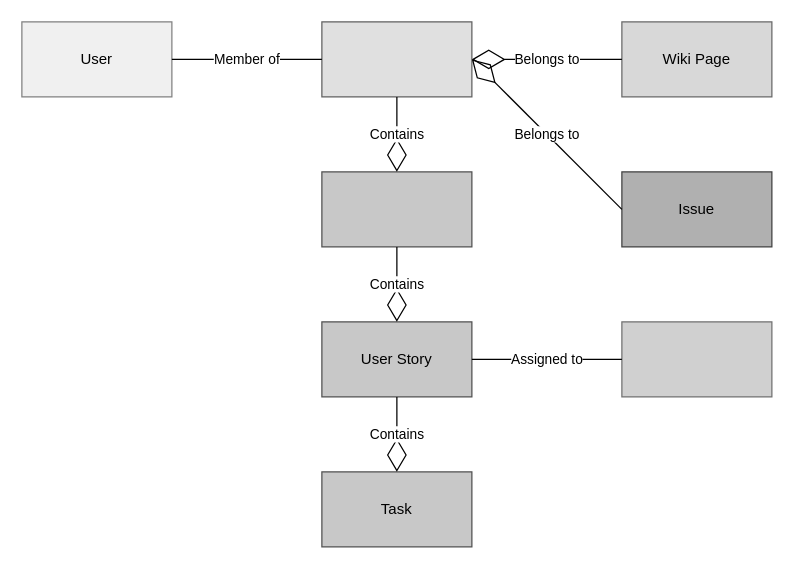
Some shapes in this 794 by 569 pixel diagram are drawn without their labels. Here are the shapes that lost their labels. From the top down, the centre of each, then its label:
At point 396,59: "Project".
At point 396,209: "Epic".
At point 696,359: "Sprint".
